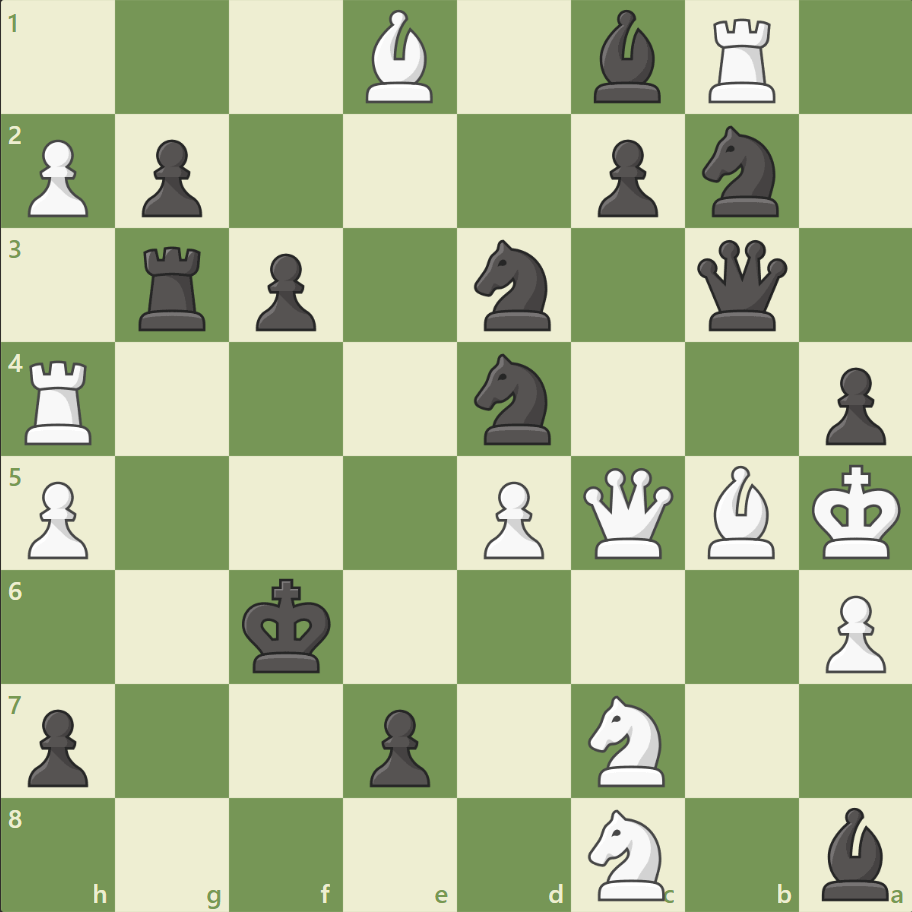B: (698, 460, 782, 563), (358, 6, 442, 109)
K: (806, 458, 906, 566)
N: (579, 688, 676, 791), (579, 802, 676, 904)
P: (474, 473, 549, 564), (20, 473, 95, 564), (20, 132, 95, 223), (815, 586, 889, 677)
Q: (578, 463, 677, 562)
R: (19, 352, 102, 449), (700, 12, 783, 109)
b: (812, 801, 896, 904), (585, 6, 669, 109)
k: (238, 571, 338, 679)
n: (465, 234, 562, 337), (465, 348, 562, 450), (692, 121, 789, 223)
p: (20, 700, 95, 791), (247, 246, 322, 337), (133, 132, 208, 223), (361, 700, 435, 791), (815, 359, 889, 450), (588, 132, 662, 223)
q: (691, 236, 790, 335)
r: (133, 239, 215, 336)
